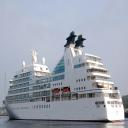cruises: (3, 31, 126, 125)
